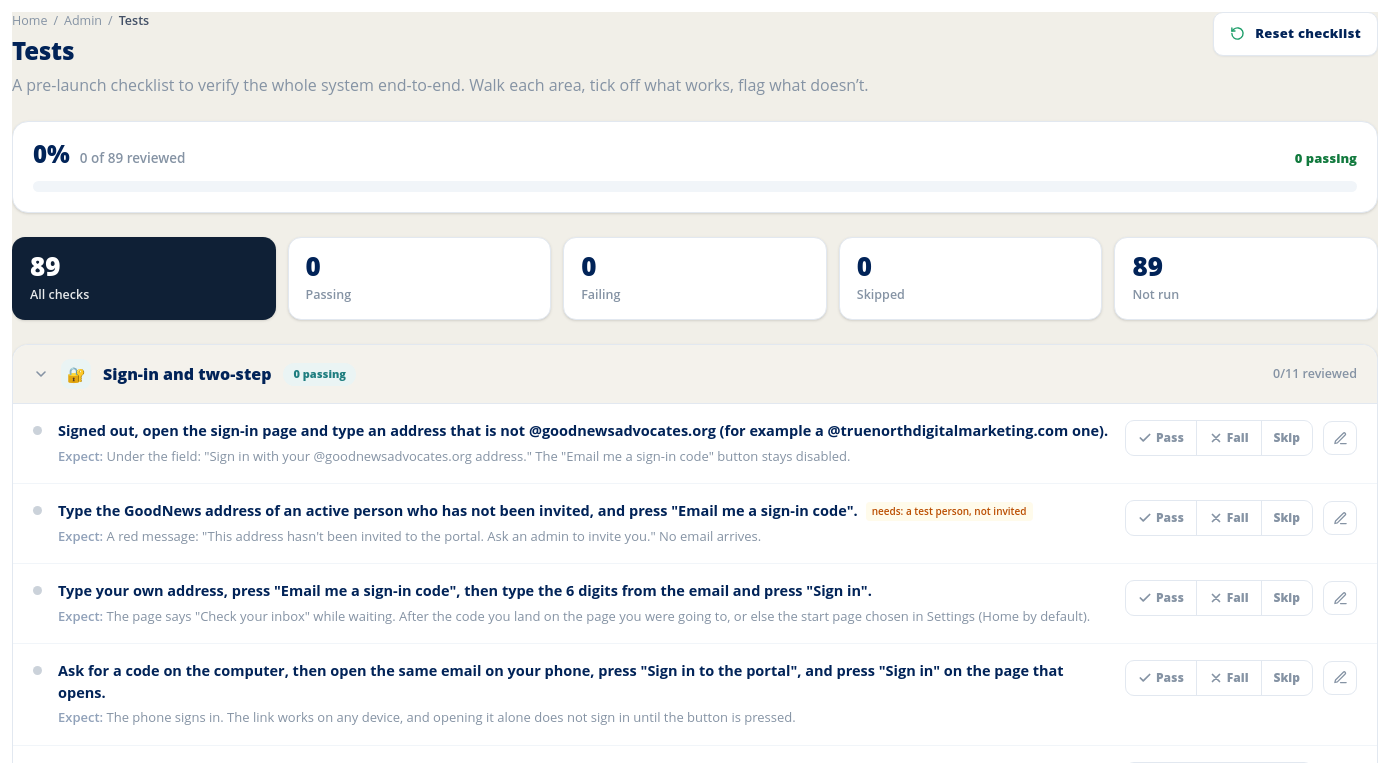
Test: TestChecklist (audit, 10 October 2026) › names the note button and says whether an area is open
Click the button "🔐 Sign-in and two-step 0 passing 0/11 reviewed". click: (187, 374)
box: [13,345,1377,404]
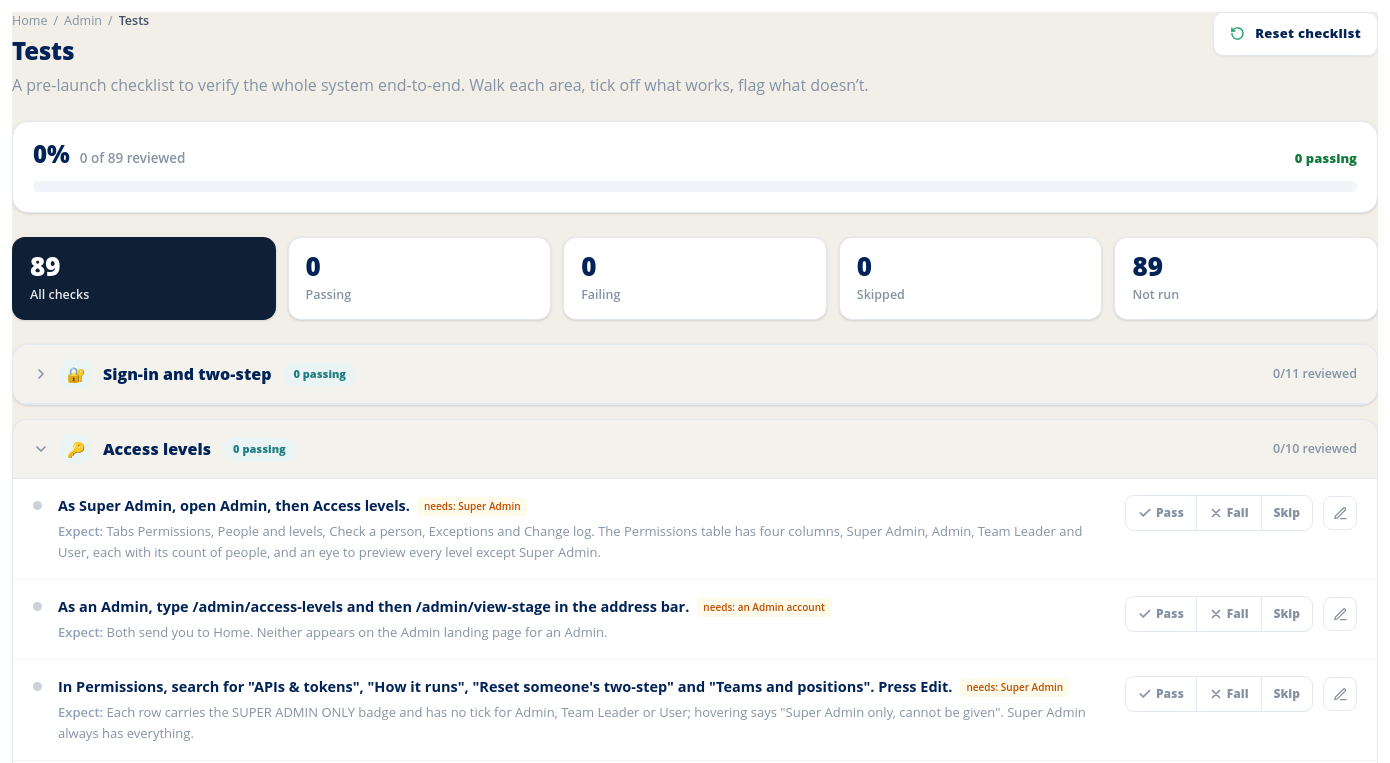
Expected: the button "🔐 Sign-in and two-step 0 passing 0/11 reviewed" is collapsed, [13,345,1377,404]
